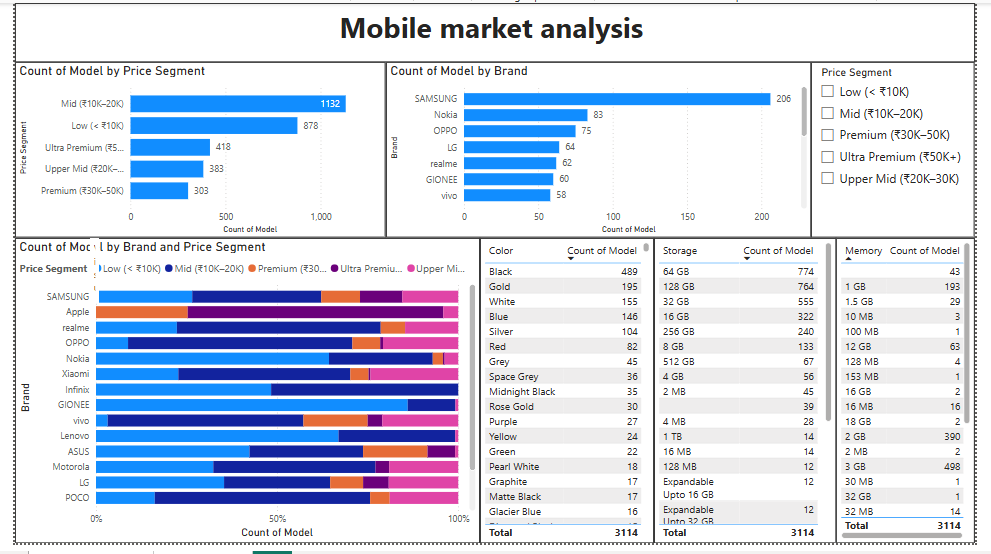

The dashboard page shown, as its layout file describes it:
{"tool":"powerbi","page":{"name":"Market analysis ","canvas":[1280,720],"ordinal":0},"visuals":[{"type":"barChart","fields":{"Category":["Flipkart_Mobiles.Price Segment"],"Y":["CountNonNull(Flipkart_Mobiles.Model)"]},"box":[0,79.3,494.2,234.3],"z":0},{"type":"barChart","fields":{"Category":["Flipkart_Mobiles.Brand"],"Y":["Count(Flipkart_Mobiles.Model)"]},"box":[494.2,79.3,567.5,234.3],"z":1000},{"type":"slicer","fields":{"Values":["Flipkart_Mobiles.Price Segment"]},"box":[1061.7,79.3,218.4,234.3],"z":2000},{"type":"hundredPercentStackedBarChart","fields":{"Category":["Flipkart_Mobiles.Brand"],"Series":["Flipkart_Mobiles.Price Segment"],"Y":["CountNonNull(Flipkart_Mobiles.Model)"]},"box":[0,313.3,620,406.7],"z":3000},{"type":"tableEx","fields":{"Values":["Flipkart_Mobiles.Memory","Flipkart_Mobiles.Model"]},"box":[1094.7,313.3,185.3,406.7],"z":4000},{"type":"tableEx","fields":{"Values":["Flipkart_Mobiles.Storage","Flipkart_Mobiles.Model"]},"box":[852,313.3,242.7,406.7],"z":5000},{"type":"tableEx","fields":{"Values":["Flipkart_Mobiles.Color","Flipkart_Mobiles.Model"]},"box":[620,313.3,232,406.7],"z":6000},{"type":"textbox","box":[100,313.3,12,86.7],"z":6002},{"type":"textbox","box":[0,0,1280.1,79.3],"z":6003}]}

Visuals, with their boxes in screenshot pixels (x1, y1, x2, y2), scaled from the page's 1280x720 canvas onto the 991x554 screenshot:
barChart - Flipkart_Mobiles.Price Segment x CountNonNull(Flipkart_Mobiles.Model): crop(0, 61, 383, 241)
barChart - Flipkart_Mobiles.Brand x Count(Flipkart_Mobiles.Model): crop(383, 61, 822, 241)
slicer - Flipkart_Mobiles.Price Segment: crop(822, 61, 990, 241)
hundredPercentStackedBarChart - Flipkart_Mobiles.Brand x Flipkart_Mobiles.Price Segment: crop(0, 241, 480, 553)
tableEx - Flipkart_Mobiles.Memory x Flipkart_Mobiles.Model: crop(848, 241, 990, 553)
tableEx - Flipkart_Mobiles.Storage x Flipkart_Mobiles.Model: crop(660, 241, 848, 553)
tableEx - Flipkart_Mobiles.Color x Flipkart_Mobiles.Model: crop(480, 241, 660, 553)
textbox: crop(77, 241, 87, 308)
textbox: crop(0, 0, 990, 61)
